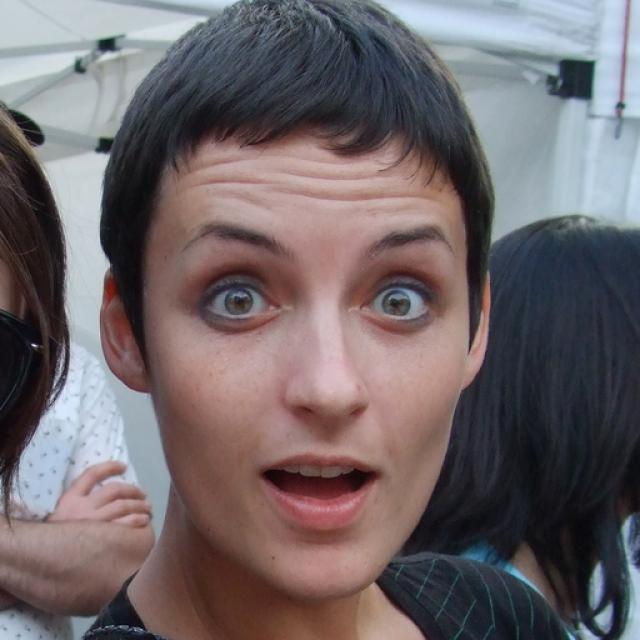surprise: (146, 114, 469, 596)
